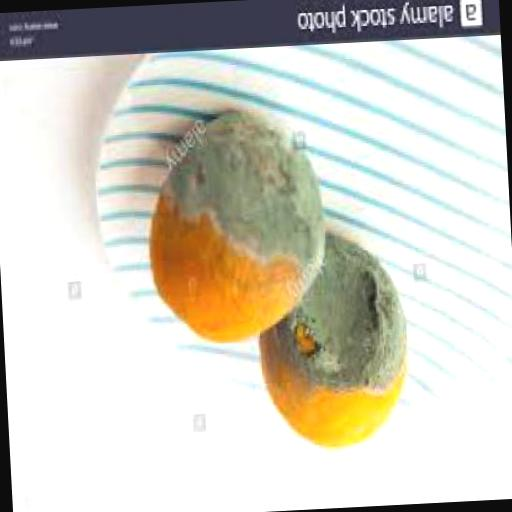biodegradable: (145, 112, 333, 350), (258, 238, 414, 458)
